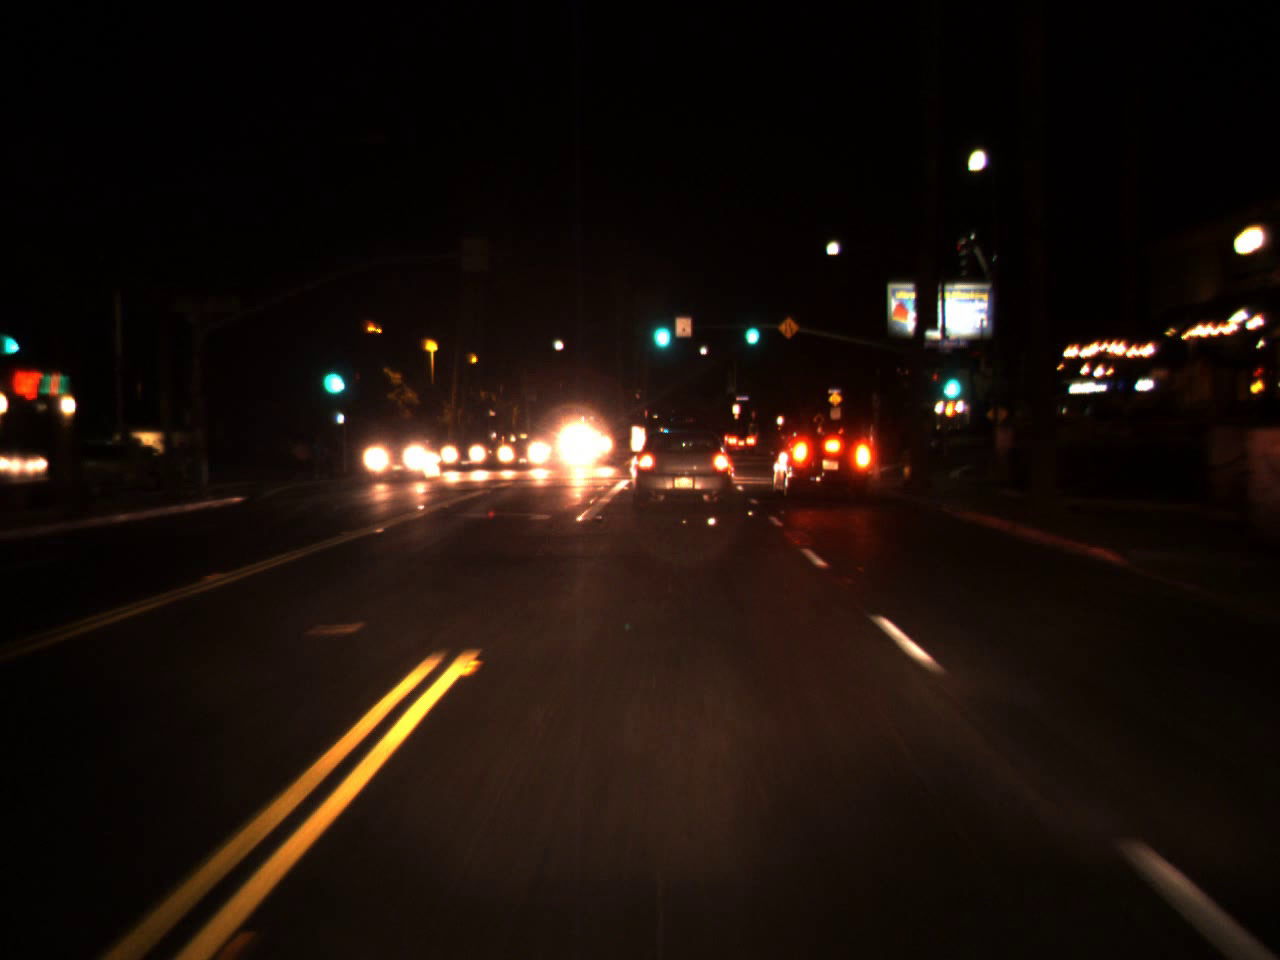go: (316, 345, 346, 402), (647, 299, 674, 356), (936, 353, 964, 407), (740, 312, 761, 345)
